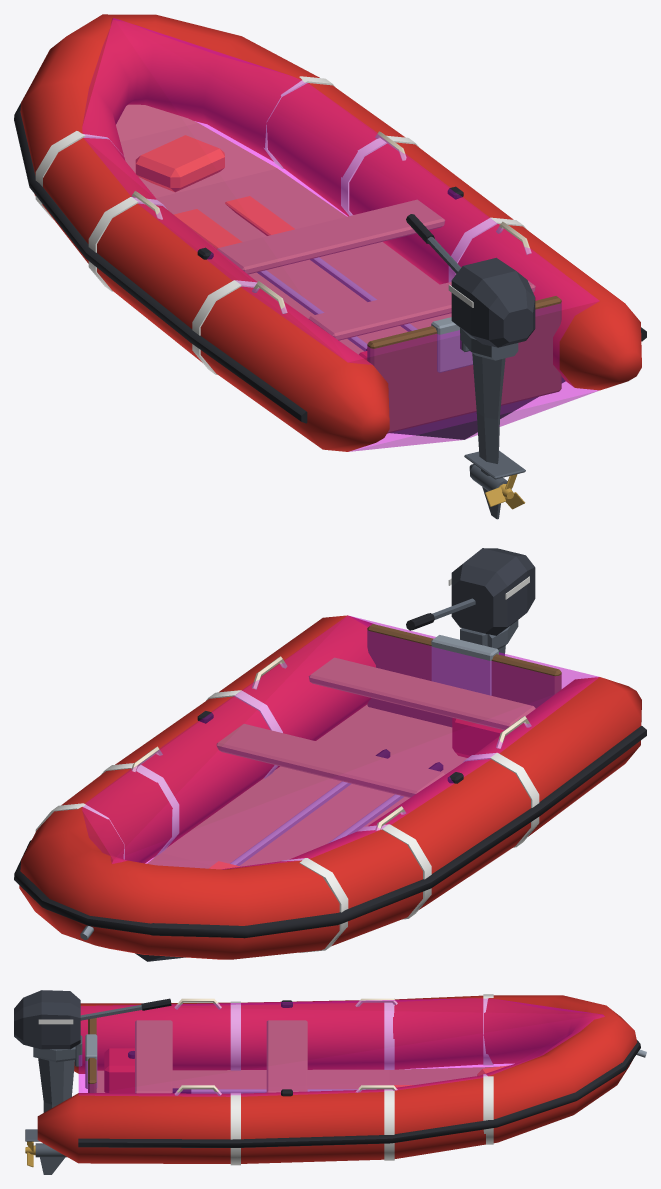
Rendered from dinghy.glb.
3 renders of one model, top to bottom at view 1: azimuth 30°, elevation 25°; view 2: azimuth 150°, elevation 25°; view 3: azimuth 270°, elevation 25°, orthographic. The views are drawn at different scales.
Visible parts, largest first — view 1: Body, Col_Body, Motor; view 2: Body, Col_Body, Motor; view 3: Body, Col_Body, Motor.
Boxes of the visible parts, box(x1,y1,x2,y2) form: Body: box(14, 14, 646, 451); Col_Body: box(82, 18, 599, 451); Motor: box(406, 214, 535, 519); Body: box(14, 615, 646, 961); Col_Body: box(82, 615, 598, 869); Motor: box(406, 548, 535, 655); Body: box(37, 994, 646, 1165); Col_Body: box(78, 998, 604, 1096); Motor: box(14, 990, 171, 1174).
Size of what is drawn, in the model's own units: 1.72 by 1.15 by 3.71.
